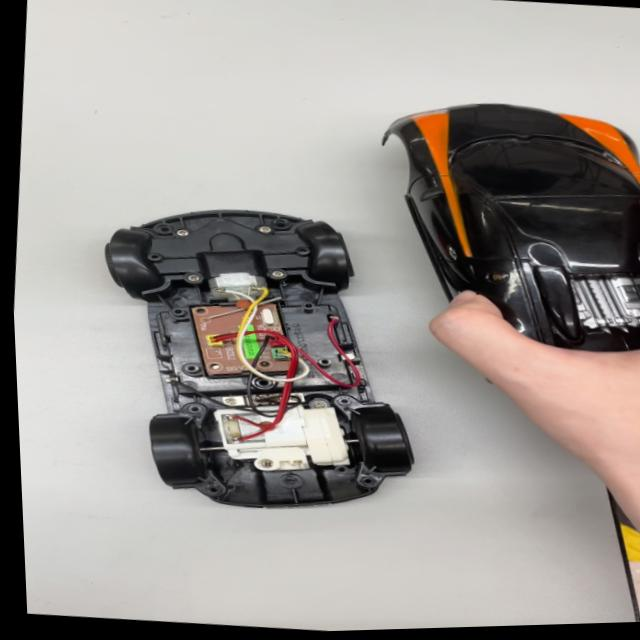Chassis: (72, 191, 416, 516)
vehicle_body: (357, 86, 640, 380)
